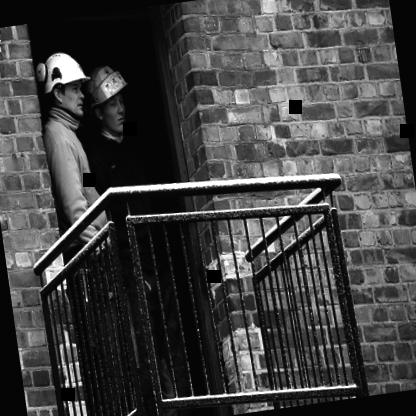helmet: (33, 35, 99, 132), (80, 50, 140, 146)
